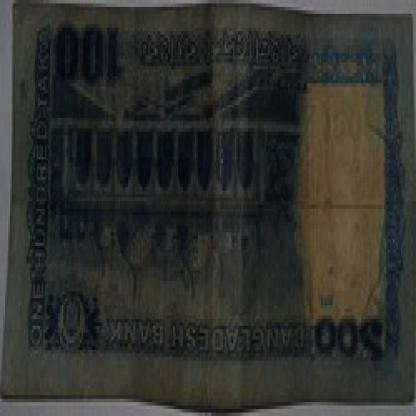one hundred taka: (48, 17, 128, 87), (311, 308, 386, 371)
